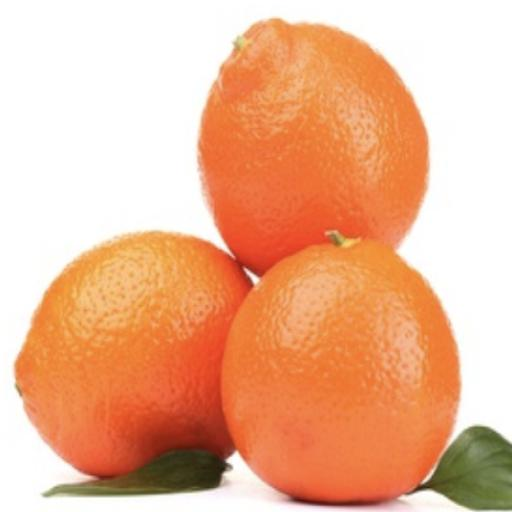orange: (222, 241, 460, 503), (199, 18, 429, 275), (15, 231, 251, 476)
